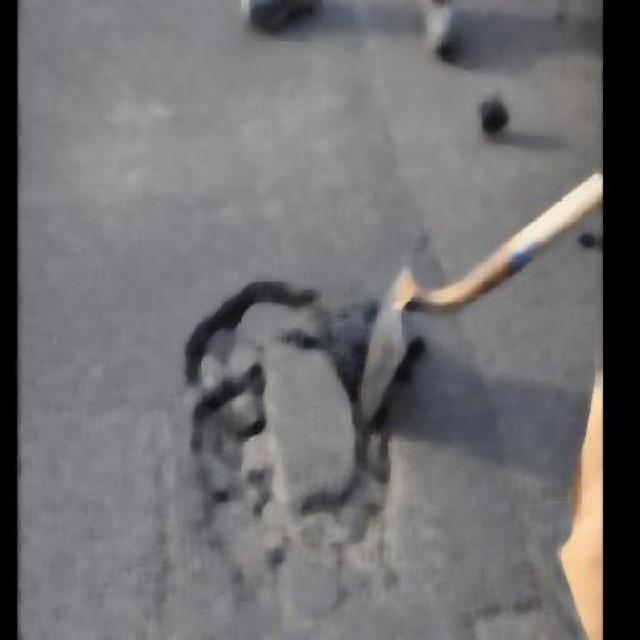Buraco: (176, 275, 409, 616)
